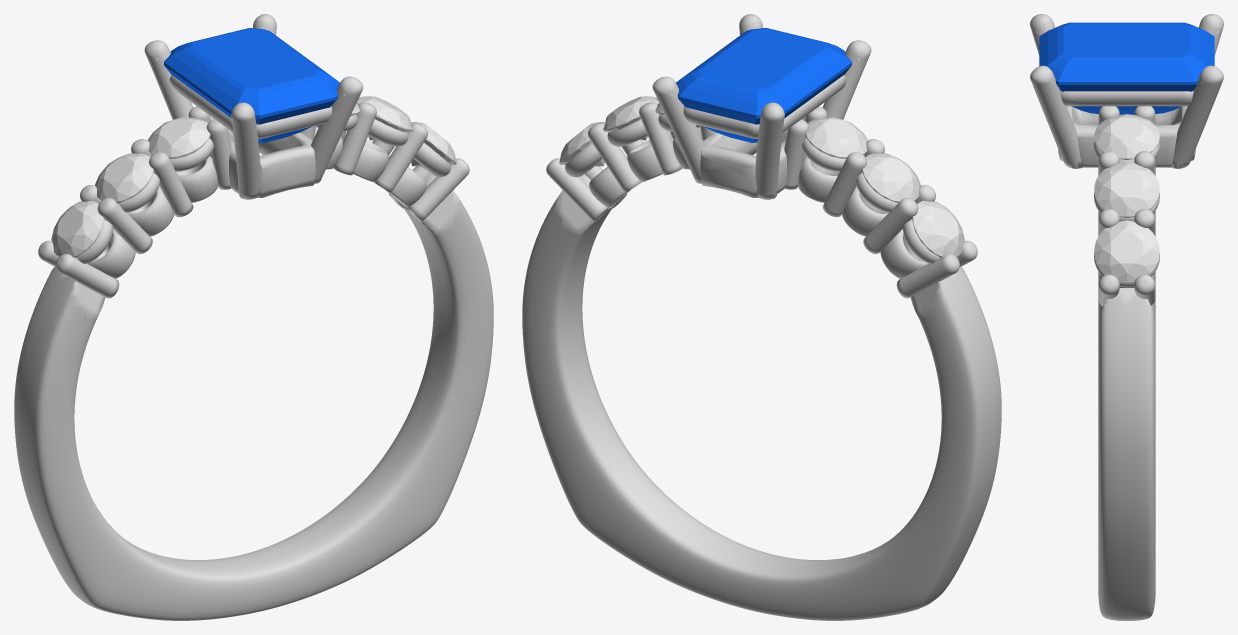
File: bluesapphire-emerald-platinum-4prong-europeanshank-7stone.glb
3 views of the same model, side by side, from view 1: azimuth 30°, elevation 25°; view 2: azimuth 150°, elevation 25°; view 3: azimuth 270°, elevation 25° (orthographic).
Parts seen in each view (by area): view 1: metal, stone, side, side.001, side.002, side.004, side.005; view 2: metal, stone, side, side.001, side.002, side.004, side.005; view 3: metal, stone, side.005, side.004, side.003.
Part boxes in pixels (x1,y1,x2,y2): metal: [14, 14, 493, 620]; stone: [164, 28, 339, 142]; side: [51, 200, 103, 257]; side.001: [95, 153, 153, 202]; side.002: [147, 117, 210, 158]; side.004: [357, 96, 412, 140]; side.005: [410, 122, 456, 166]; metal: [522, 14, 1001, 620]; stone: [676, 28, 851, 142]; side: [912, 200, 964, 257]; side.001: [862, 153, 920, 202]; side.002: [805, 117, 868, 158]; side.004: [603, 96, 658, 140]; side.005: [559, 122, 605, 166]; metal: [1030, 14, 1223, 620]; stone: [1039, 22, 1214, 114]; side.005: [1094, 220, 1159, 283]; side.004: [1094, 161, 1159, 217]; side.003: [1094, 114, 1159, 159].
Size of the model in its own units: 20.1 by 22.75 by 7.4.
